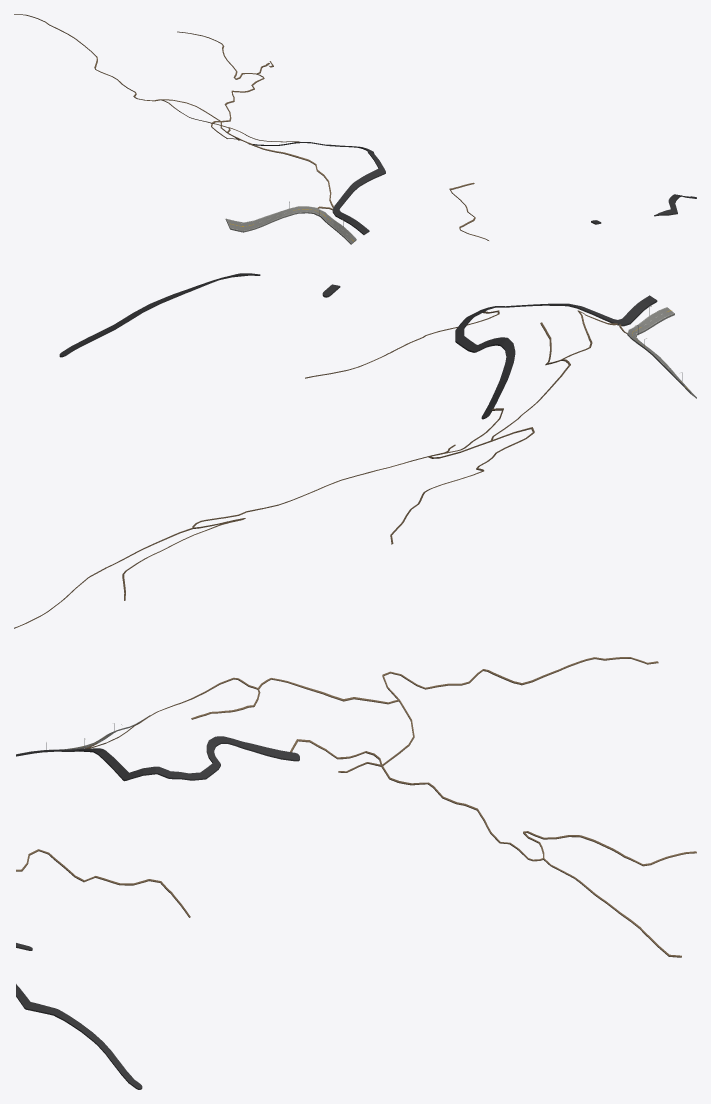
3 renders of one model, top to bottom at view 1: azimuth 30°, elevation 25°; view 2: azimuth 150°, elevation 25°; view 3: azimuth 270°, elevation 25°, orthographic. The views are drawn at different scales.
Size of the model in its own units: 510 by 150 by 546.
